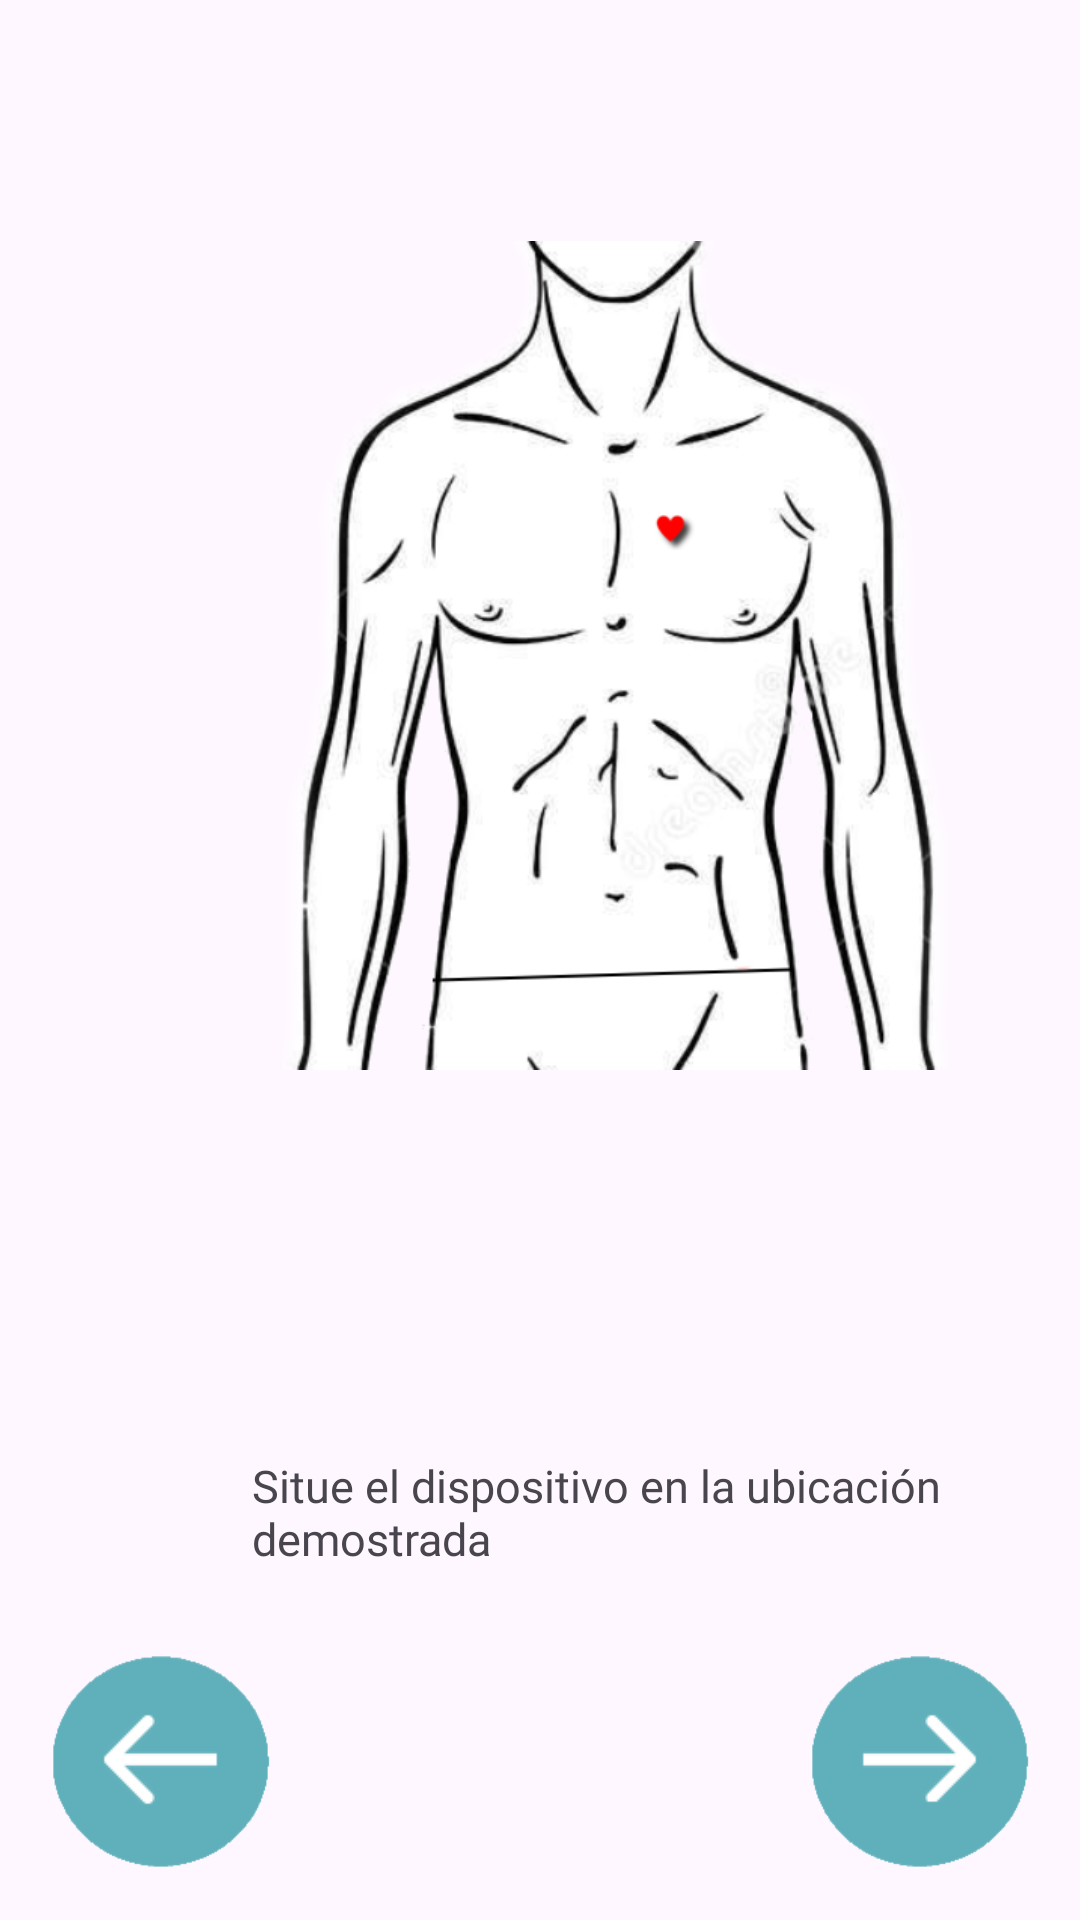

Icon bounding boxes for this 1080 x 1920 phone screenshot, format detection(x1, y1, x2, y2):
flecha derecha: detection(812, 1656, 1028, 1867)
flecha izquierda: detection(53, 1656, 269, 1867)
